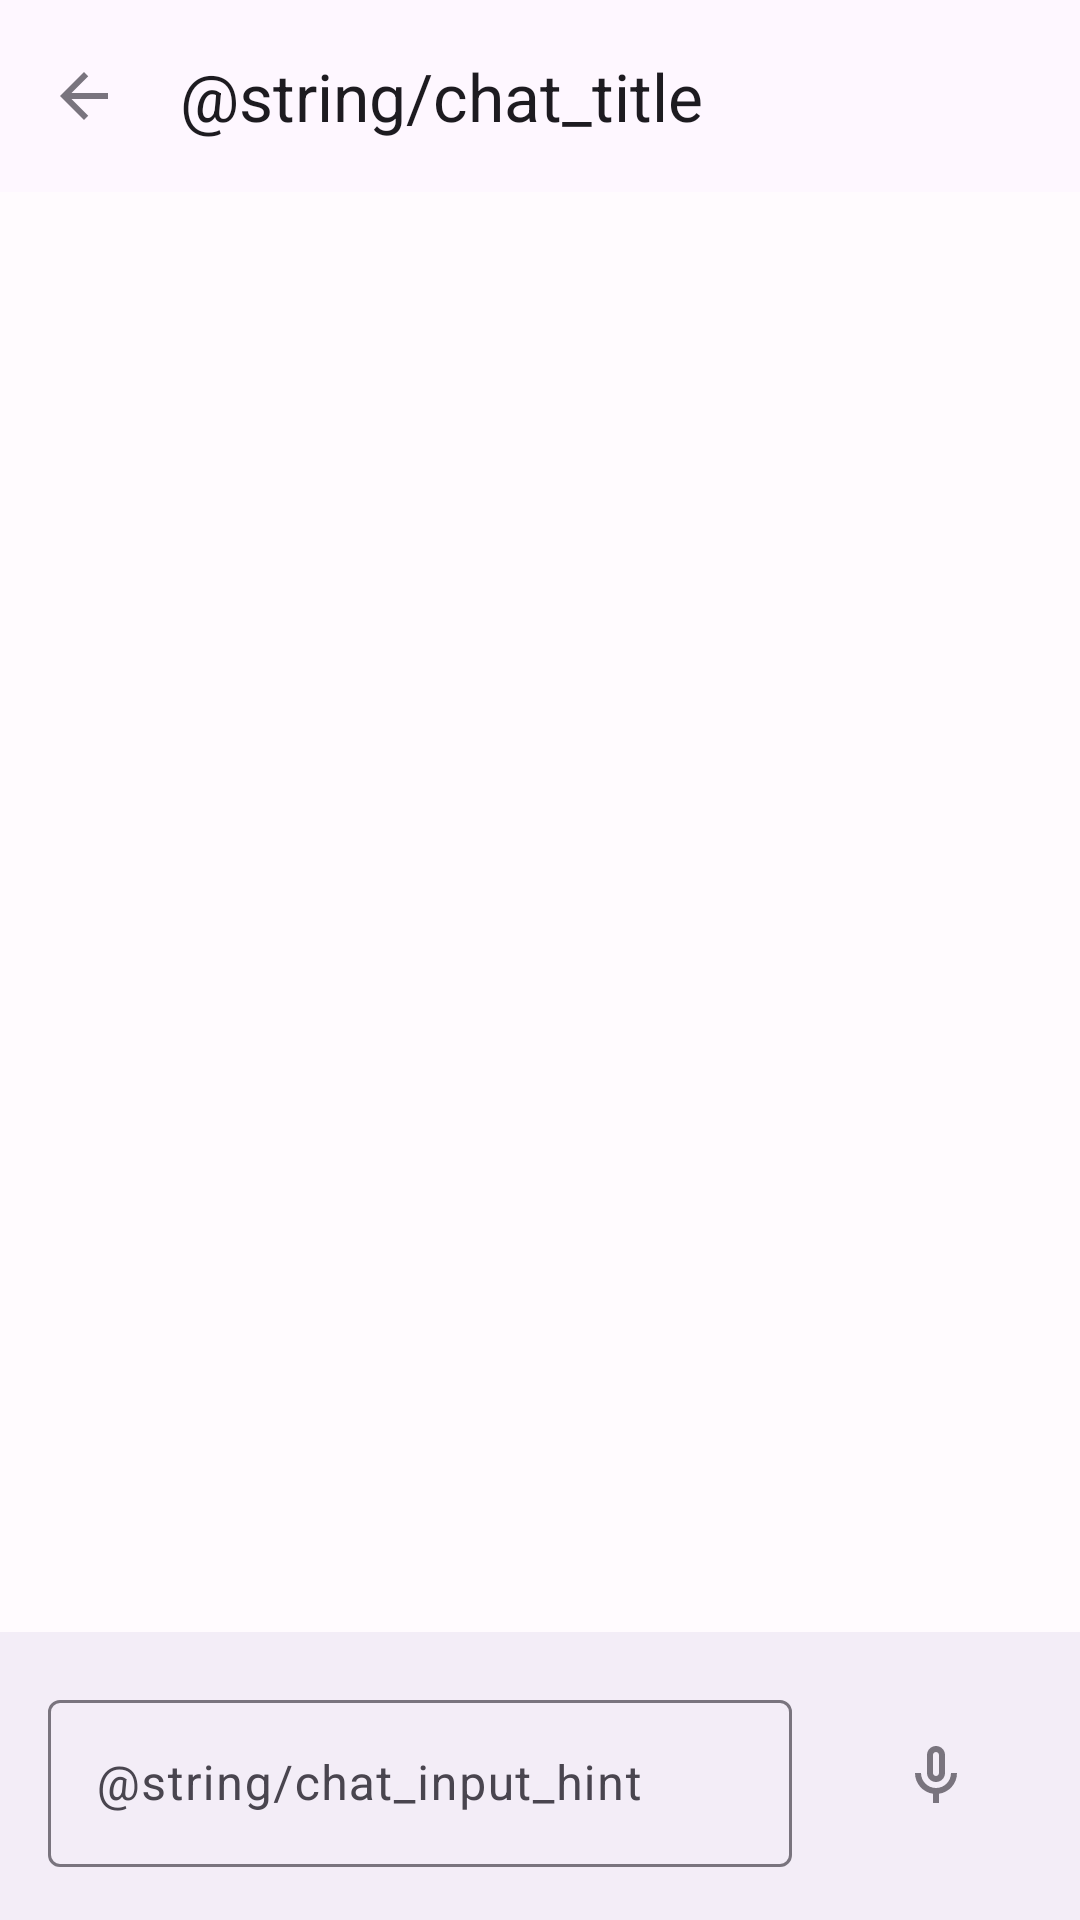

Where icons sit on this 1080x1920 app screen, as [x1, y1, x2, y2]:
mic none: [915, 1746, 957, 1803]
